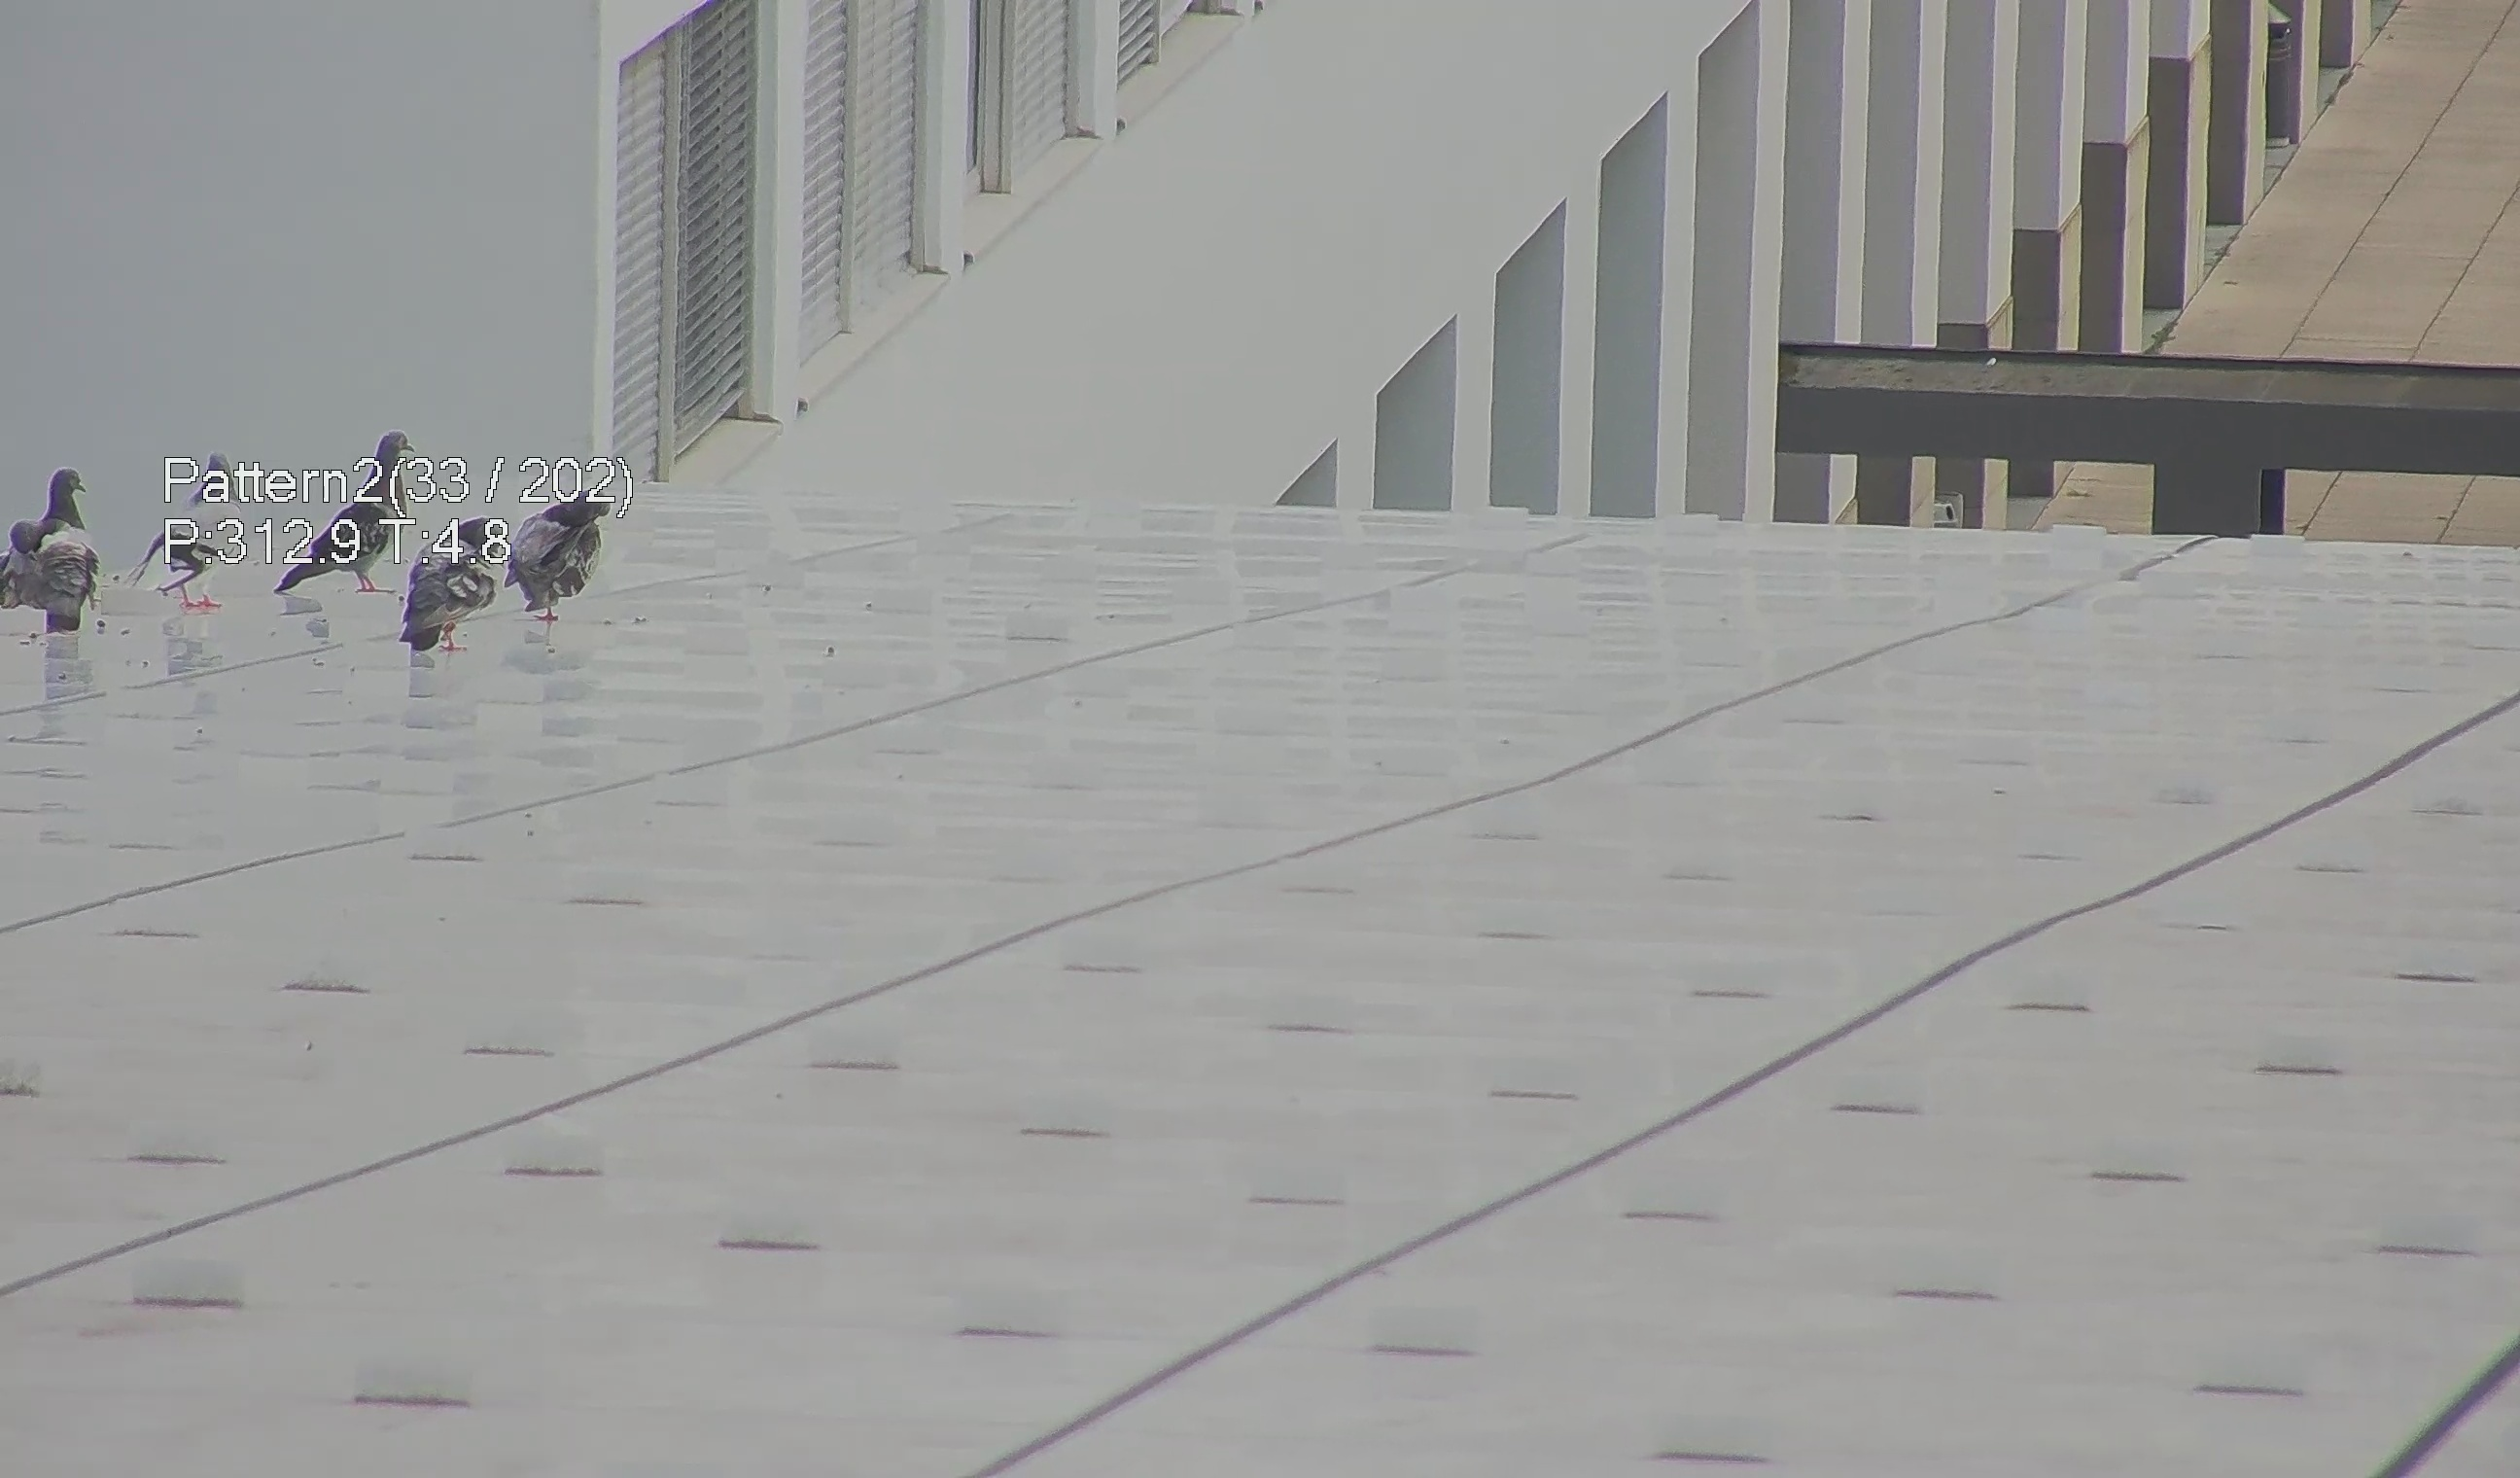Pigeon: (257, 422, 419, 609), (485, 456, 614, 632), (130, 463, 239, 621), (2, 463, 106, 626), (380, 500, 492, 649)
